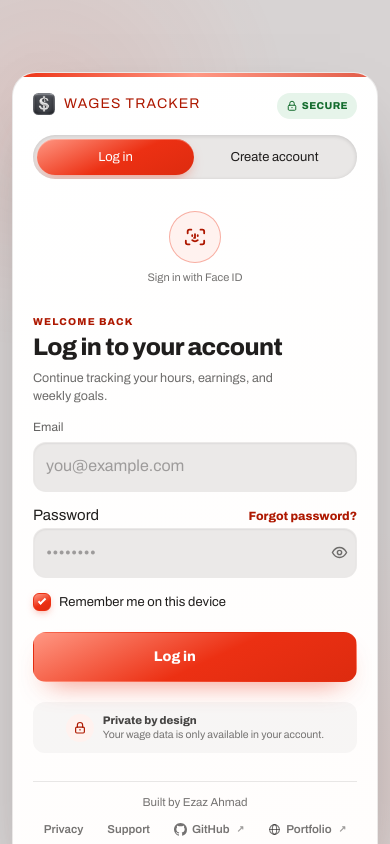
it: AuthScreen biometric icon › account-mismatch handling › hides the icon once a different account's email is typed in
Expected: the button named "Sign in with Face ID" is shown, [169,211,221,263]
Type "someone-else@example.com" into the field labelled "Email" at (195,467), box [33,442,357,492]
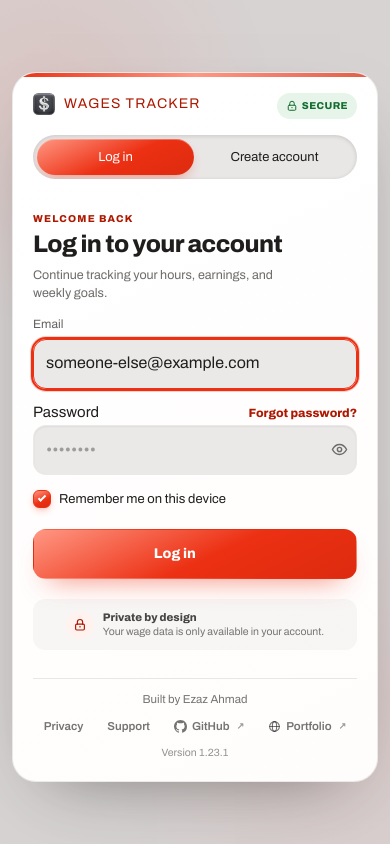
Expected: the text "Sign in with" is gone
